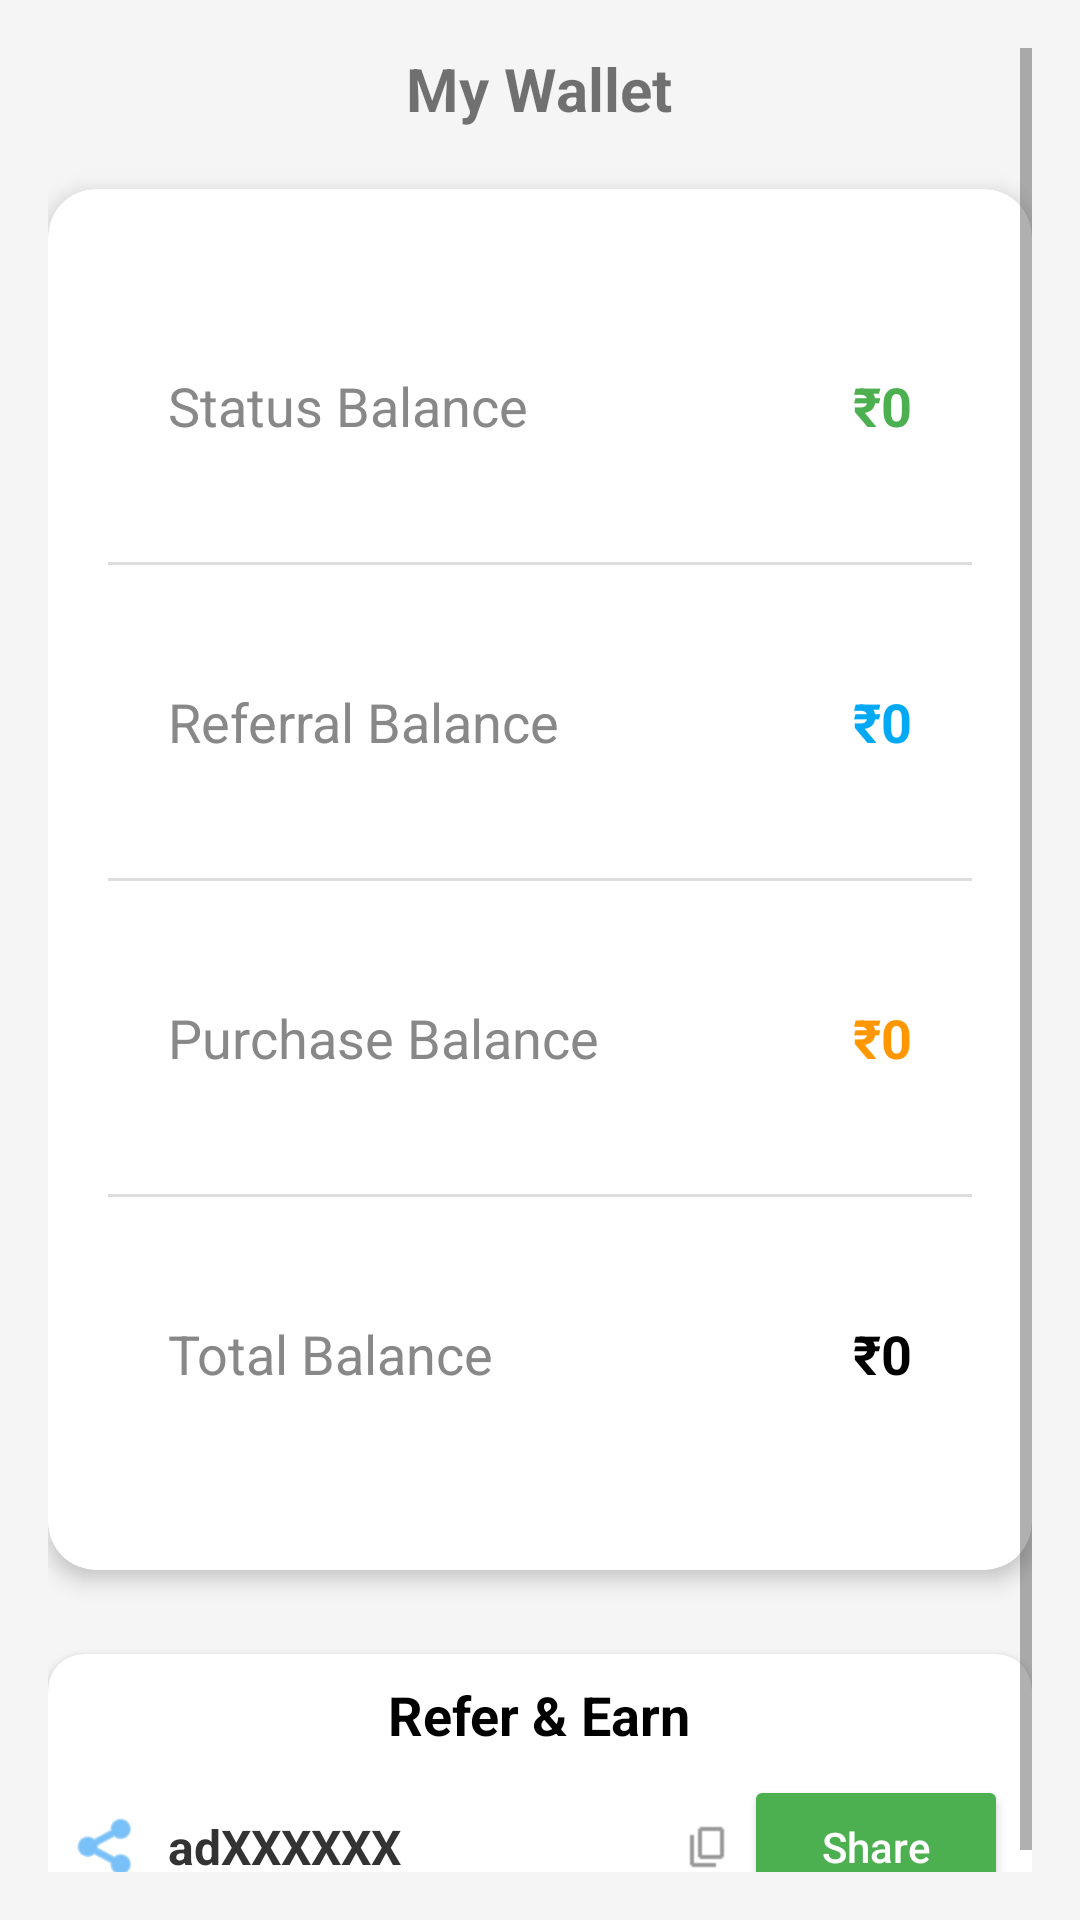

Point at icon controls on the screen. Image size 1080x1920, points as (x=x, y=y).
Copy Referral: (x=707, y=1847)
share: (x=104, y=1845)
